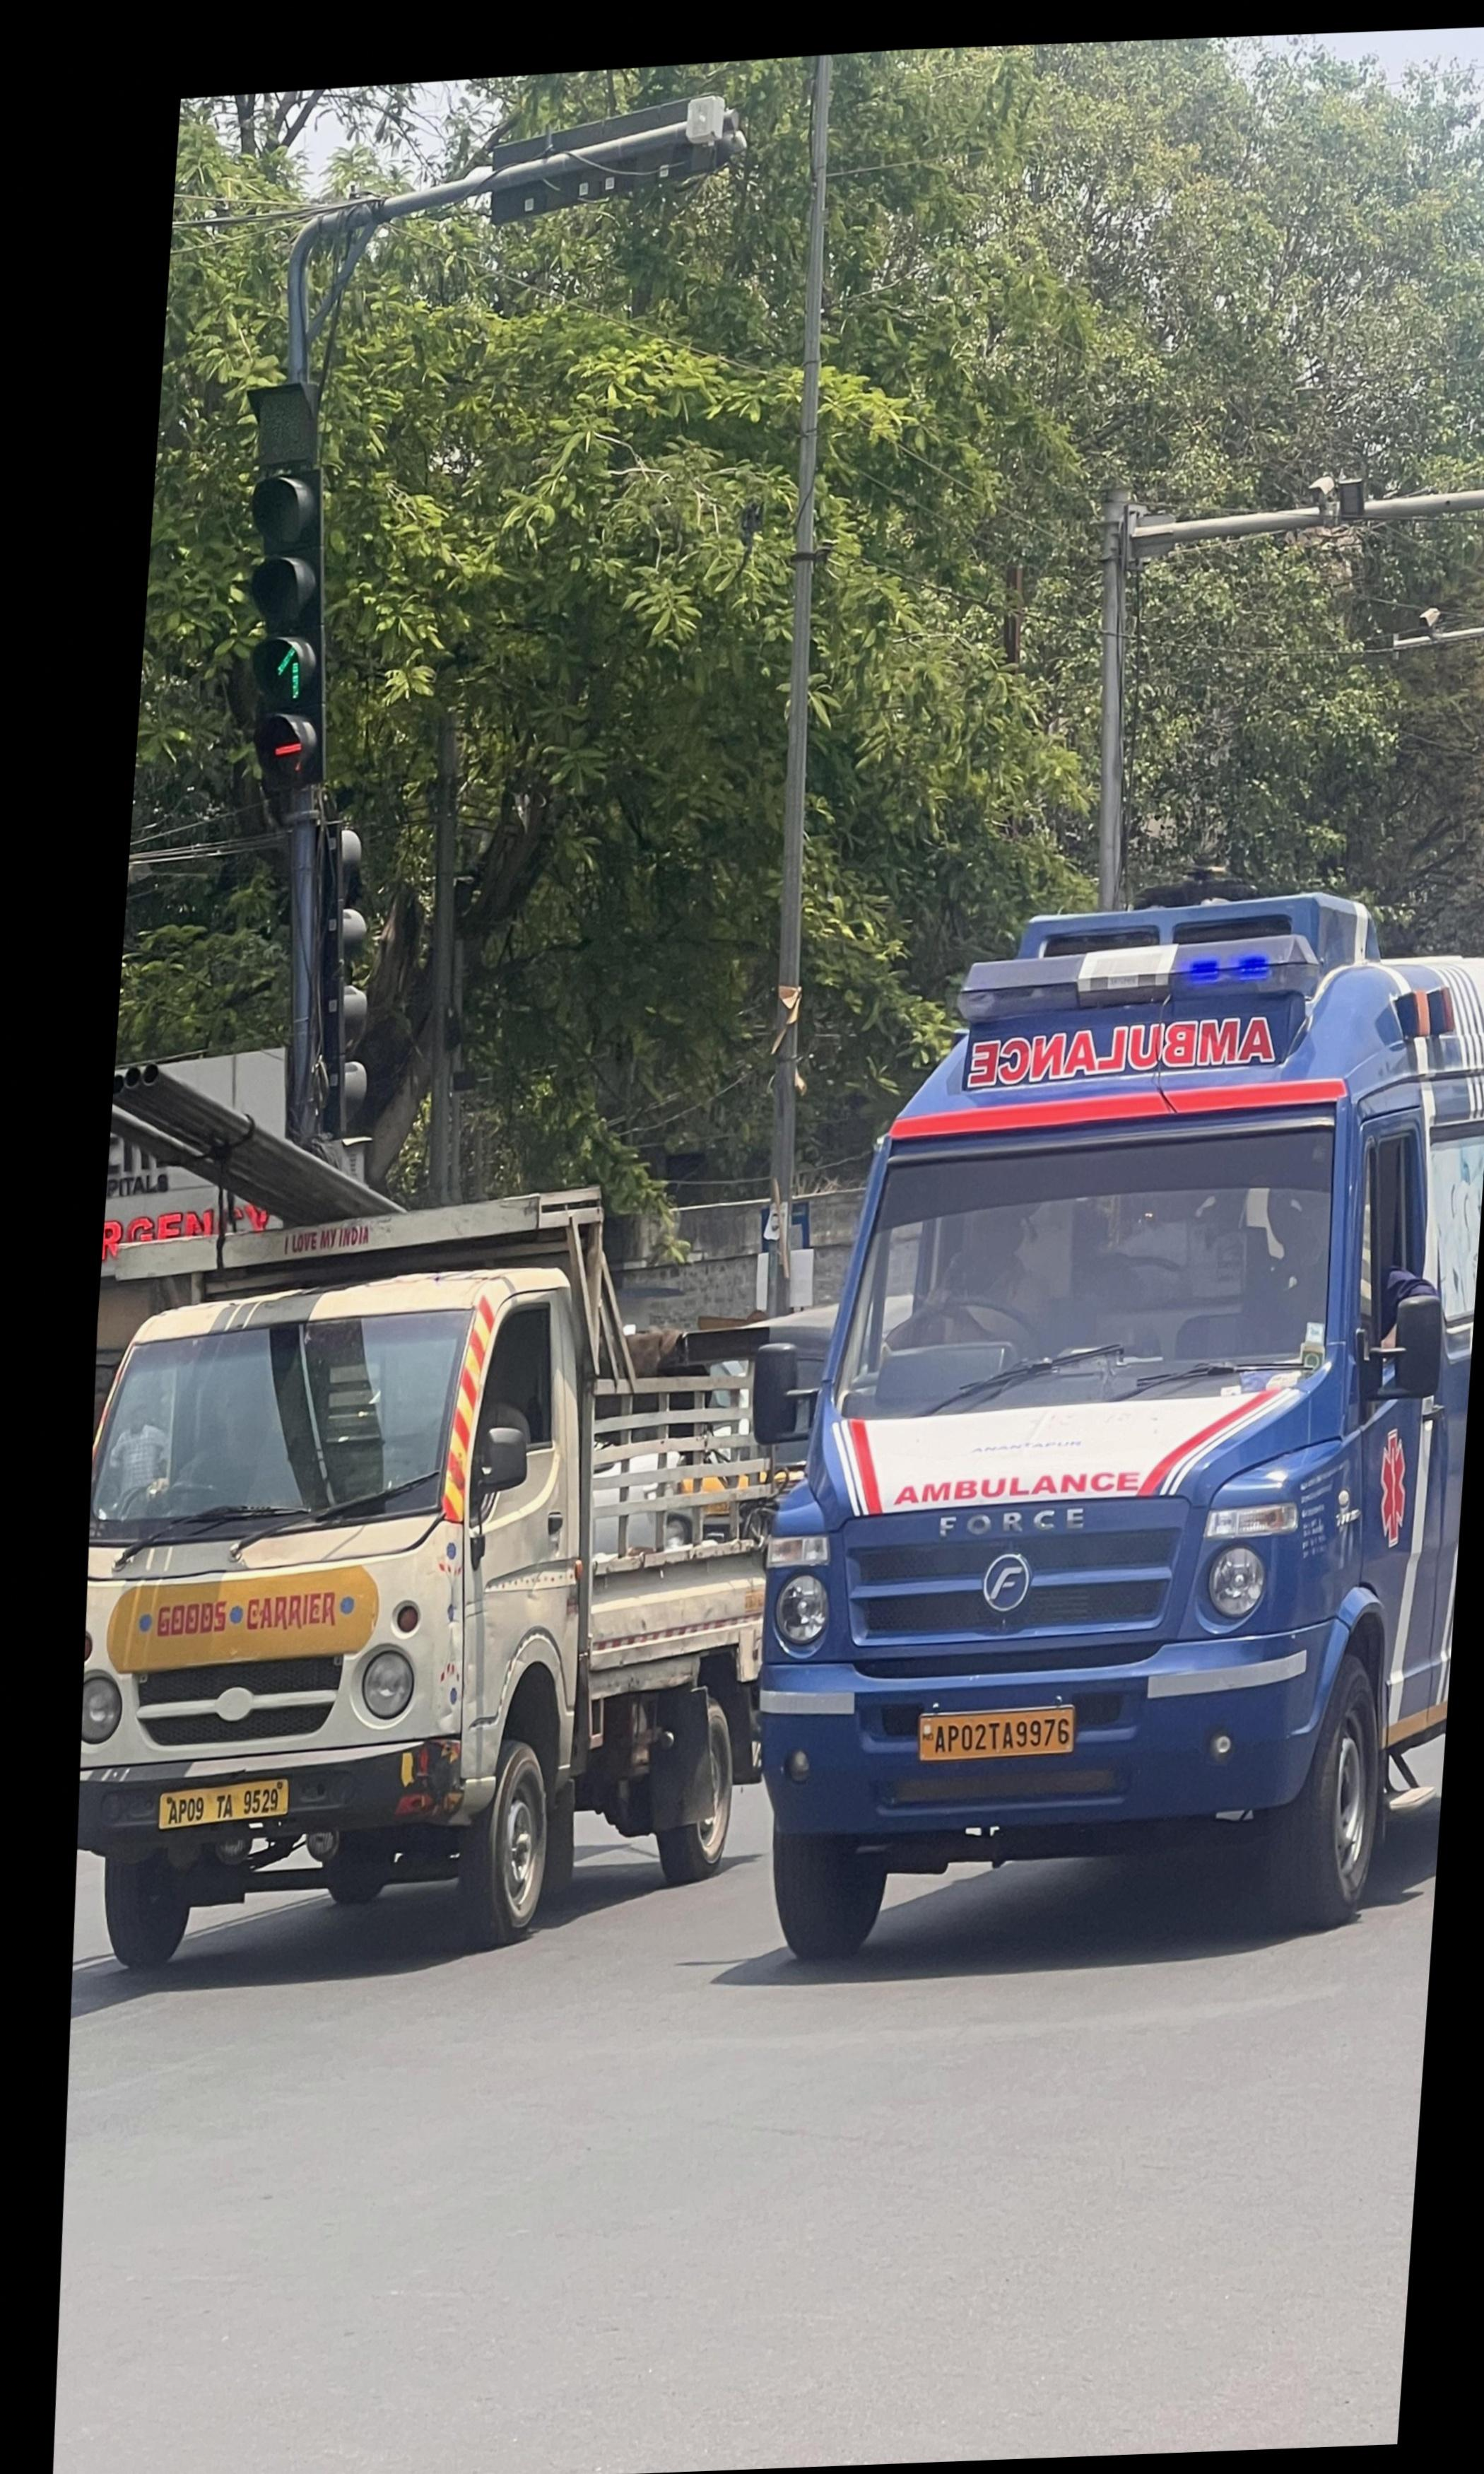ambulance: (760, 898, 1484, 1983)
